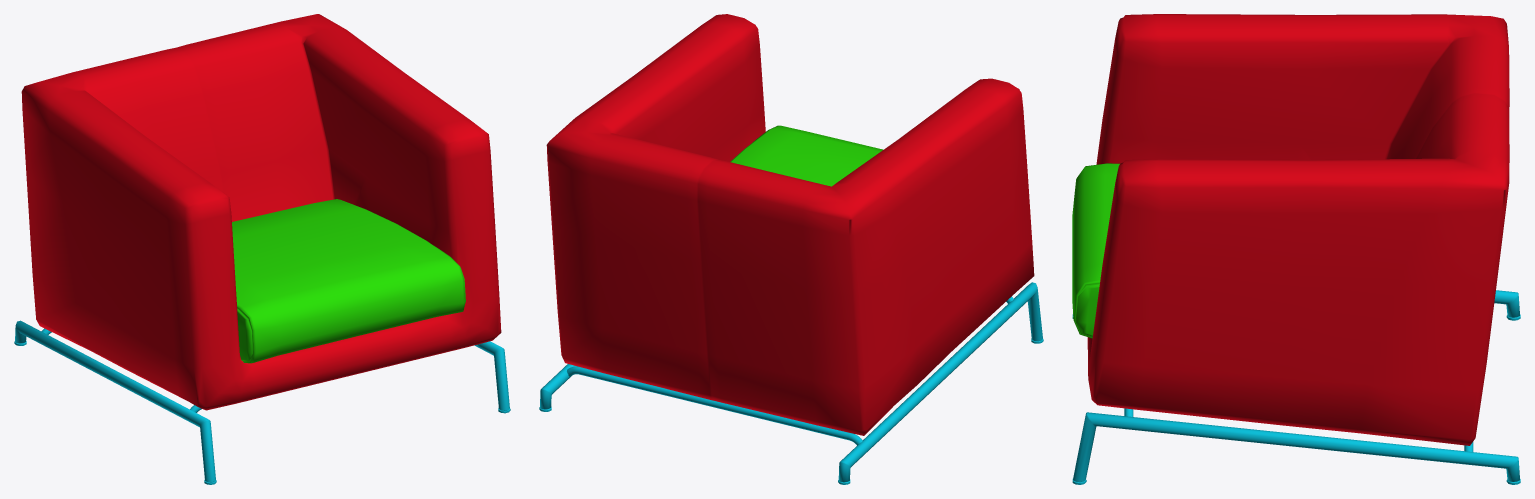
The model's file is uploads_files_797173_Armchair_4_0.dae.
3 views of the same model, side by side, from view 1: azimuth 30°, elevation 25°; view 2: azimuth 150°, elevation 25°; view 3: azimuth 270°, elevation 25° (orthographic). The views are drawn at different scales.
Parts seen in each view (by area): view 1: Armchair_4_0; view 2: Armchair_4_0; view 3: Armchair_4_0.
Boxes of the visible parts, x1,y1,x2,y2 form: Armchair_4_0: [14, 14, 510, 484]; Armchair_4_0: [539, 14, 1043, 484]; Armchair_4_0: [1072, 14, 1520, 484].
Bounding box in the file's own units: 0.9154 × 0.9984 × 0.7553.
